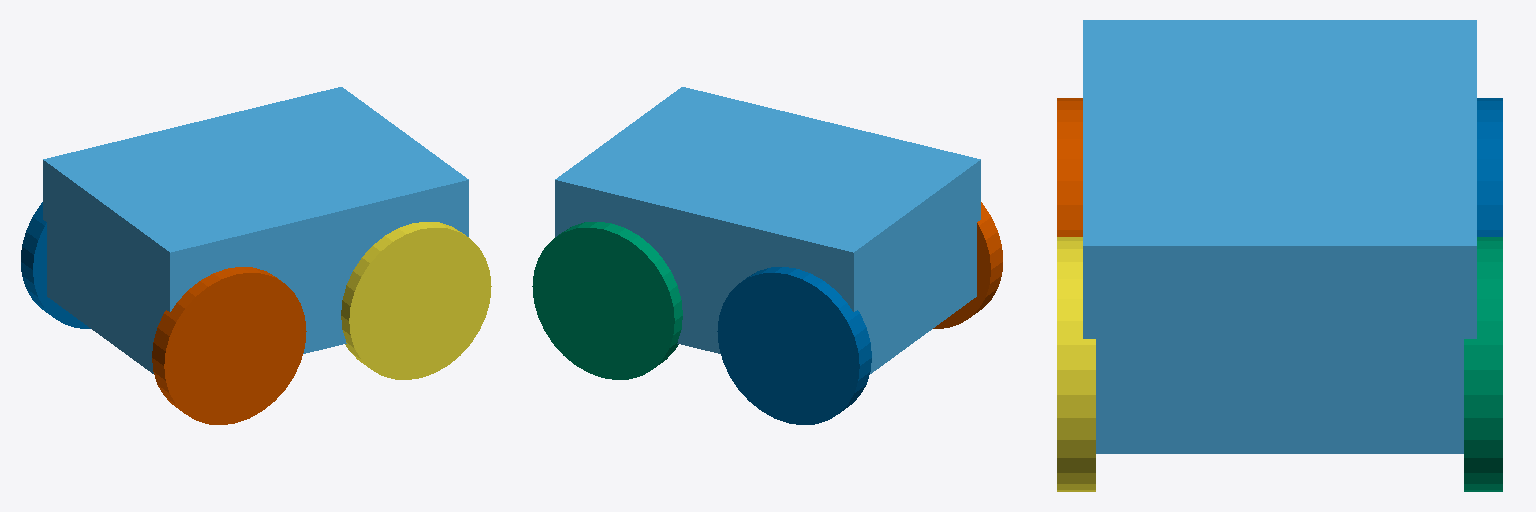
The robot description file, URDF, robot "jackal":
<?xml version="1.0"?>
<!--
  Example URDF of the "jackal" MVSim vehicle, as it could be used for Gazebo or
  real hardware: its <ros2_control> block names another hardware plugin, but
  MVSim binds its joints to the simulated wheels by name.
  Used by demo_ros2_control.launch.py with robot_description:=urdf
-->
<robot name="jackal">
  <link name="base_link"/>
  <link name="chassis_link">
    <visual><geometry><box size="0.42 0.31 0.18"/></geometry></visual>
  </link>
  <joint name="chassis_joint" type="fixed">
    <parent link="base_link"/><child link="chassis_link"/>
    <origin xyz="0 0 0.15" rpy="0 0 0"/>
  </joint>
  <link name="lf_wheel">
    <visual><origin xyz="0 0 0" rpy="1.5708 0 0"/><geometry><cylinder radius="0.1" length="0.03"/></geometry></visual>
  </link>
  <joint name="lf_wheel_joint" type="continuous">
    <parent link="base_link"/><child link="lf_wheel"/>
    <origin xyz="0.13 0.16 0.1" rpy="0 0 0"/>
    <axis xyz="0 1 0"/>
  </joint>
  <link name="rf_wheel">
    <visual><origin xyz="0 0 0" rpy="1.5708 0 0"/><geometry><cylinder radius="0.1" length="0.03"/></geometry></visual>
  </link>
  <joint name="rf_wheel_joint" type="continuous">
    <parent link="base_link"/><child link="rf_wheel"/>
    <origin xyz="0.13 -0.16 0.1" rpy="0 0 0"/>
    <axis xyz="0 1 0"/>
  </joint>
  <link name="lr_wheel">
    <visual><origin xyz="0 0 0" rpy="1.5708 0 0"/><geometry><cylinder radius="0.1" length="0.03"/></geometry></visual>
  </link>
  <joint name="lr_wheel_joint" type="continuous">
    <parent link="base_link"/><child link="lr_wheel"/>
    <origin xyz="-0.13 0.16 0.1" rpy="0 0 0"/>
    <axis xyz="0 1 0"/>
  </joint>
  <link name="rr_wheel">
    <visual><origin xyz="0 0 0" rpy="1.5708 0 0"/><geometry><cylinder radius="0.1" length="0.03"/></geometry></visual>
  </link>
  <joint name="rr_wheel_joint" type="continuous">
    <parent link="base_link"/><child link="rr_wheel"/>
    <origin xyz="-0.13 -0.16 0.1" rpy="0 0 0"/>
    <axis xyz="0 1 0"/>
  </joint>
  <link name="laser1"/>
  <joint name="laser1_joint" type="fixed">
    <parent link="base_link"/><child link="laser1"/>
    <origin xyz="0.15 0 0.33" rpy="0 0 0"/>
  </joint>
  <ros2_control name="GazeboSimSystem" type="system">
    <hardware>
      <plugin>gz_ros2_control/GazeboSimSystem</plugin>
    </hardware>
    <joint name="lf_wheel_joint">
      <command_interface name="velocity"/>
      <state_interface name="position"/>
      <state_interface name="velocity"/>
    </joint>
    <joint name="rf_wheel_joint">
      <command_interface name="velocity"/>
      <state_interface name="position"/>
      <state_interface name="velocity"/>
    </joint>
    <joint name="lr_wheel_joint">
      <command_interface name="velocity"/>
      <state_interface name="position"/>
      <state_interface name="velocity"/>
    </joint>
    <joint name="rr_wheel_joint">
      <command_interface name="velocity"/>
      <state_interface name="position"/>
      <state_interface name="velocity"/>
    </joint>
  </ros2_control>
</robot>

--- Render facts (derived) ---
3 views of the same robot in one strip: view 1: azimuth 30°, elevation 25°; view 2: azimuth 150°, elevation 25°; view 3: azimuth 270°, elevation 25° (orthographic).
Robot: jackal — 7 links, 6 joints (4 continuous, 2 fixed); root link base_link; default pose: every joint at zero.
Visible links, largest first — view 1: chassis_link, rr_wheel, rf_wheel, lr_wheel; view 2: chassis_link, lr_wheel, lf_wheel, rr_wheel; view 3: chassis_link, lf_wheel, rf_wheel, lr_wheel, rr_wheel.
Boxes of the visible links, left/top/right/bottom form: chassis_link: left=43, top=87, right=468, bottom=373; rr_wheel: left=152, top=267, right=306, bottom=424; rf_wheel: left=341, top=222, right=491, bottom=379; lr_wheel: left=21, top=202, right=90, bottom=328; chassis_link: left=555, top=87, right=980, bottom=373; lr_wheel: left=717, top=267, right=871, bottom=424; lf_wheel: left=532, top=222, right=682, bottom=379; rr_wheel: left=933, top=202, right=1002, bottom=328; chassis_link: left=1083, top=20, right=1476, bottom=453; lf_wheel: left=1464, top=237, right=1502, bottom=491; rf_wheel: left=1057, top=237, right=1095, bottom=491; lr_wheel: left=1477, top=98, right=1502, bottom=236; rr_wheel: left=1057, top=98, right=1082, bottom=236.
Size in the robot's own frame: 0.46 by 0.35 by 0.24 metres.
Geometry: primitives only (box / cylinder / sphere), no mesh files.
